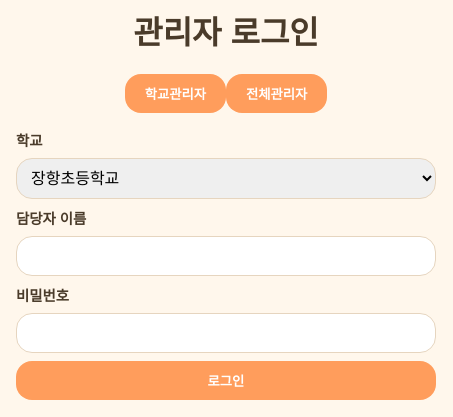
AdminLoginPage › 전체관리자 탭을 누르면 이메일/비밀번호 입력으로 바뀐다
Click the button "전체관리자" at x=277, y=94, box x1=226 y1=74 x2=327 y2=113
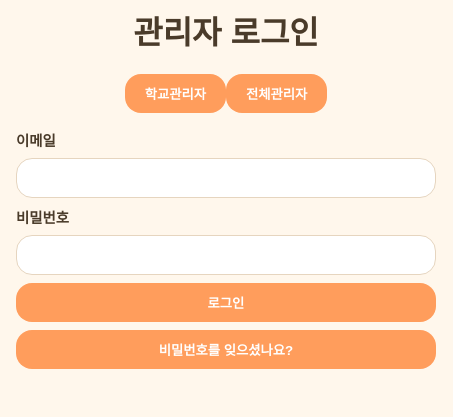
Expected: the password field labelled "비밀번호" is shown, x1=16 y1=235 x2=436 y2=275
Now the field labelled "이메일" is shown, box x1=16 y1=158 x2=436 y2=198
